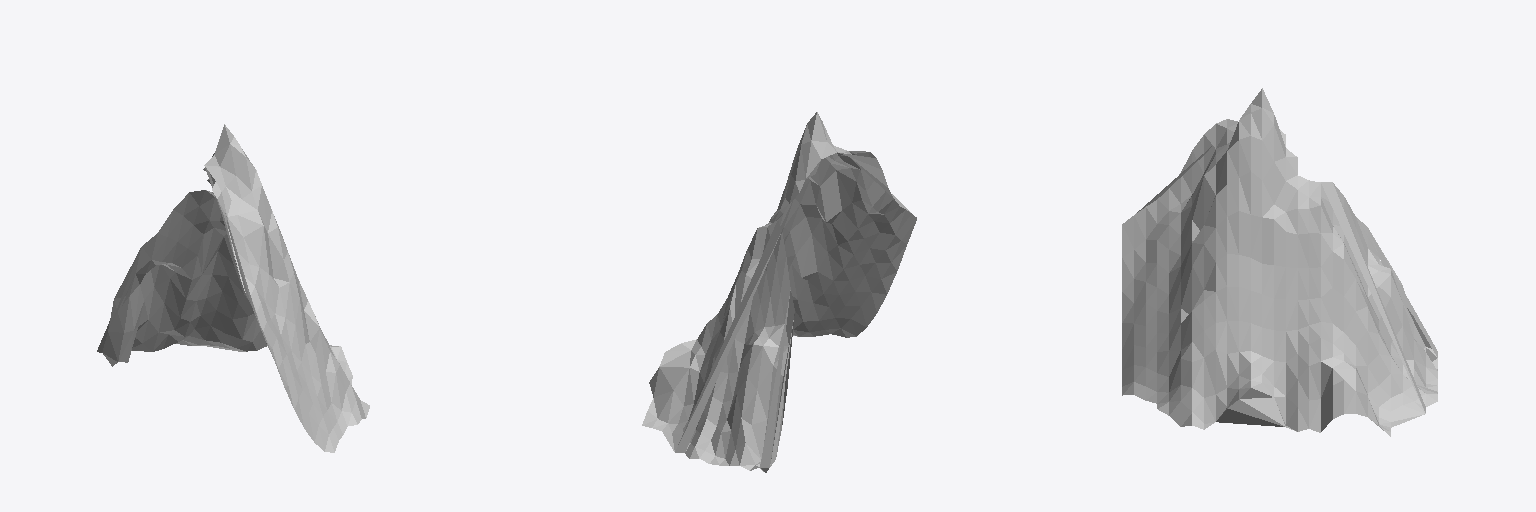
Rendered from tree_63.obj.
The picture shows the model from 3 angles: view 1: azimuth 30°, elevation 25°; view 2: azimuth 150°, elevation 25°; view 3: azimuth 270°, elevation 25°; orthographic projection.
Parts seen in each view (by area): view 1: tree_63; view 2: tree_63; view 3: tree_63.
Part boxes in pixels (x1,y1,x2,y2): tree_63: (97, 124, 369, 452); tree_63: (642, 112, 916, 472); tree_63: (1122, 88, 1437, 436).
Size of the model in its own units: 16 by 28.03 by 27.